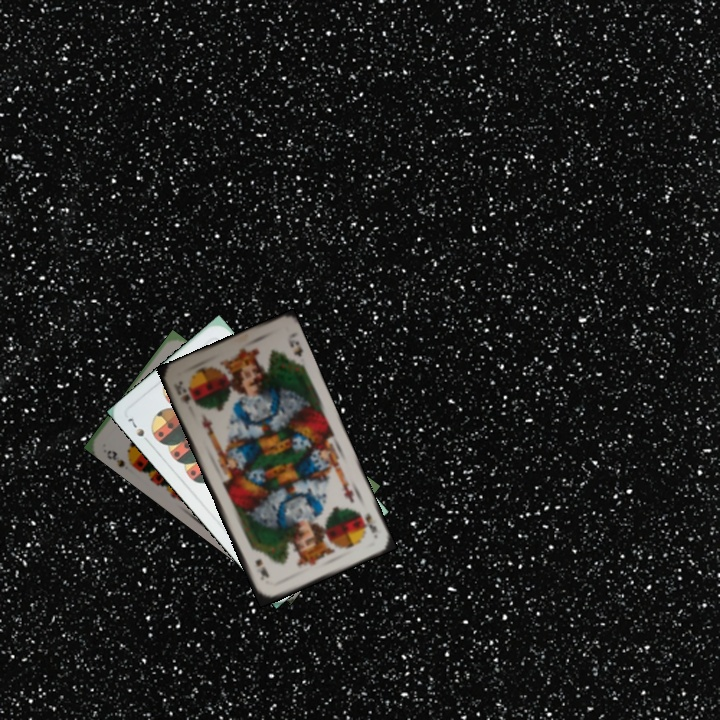S7: (124, 412, 153, 447)
S9: (102, 446, 138, 470)
SK: (355, 507, 380, 536), (170, 376, 193, 407)
